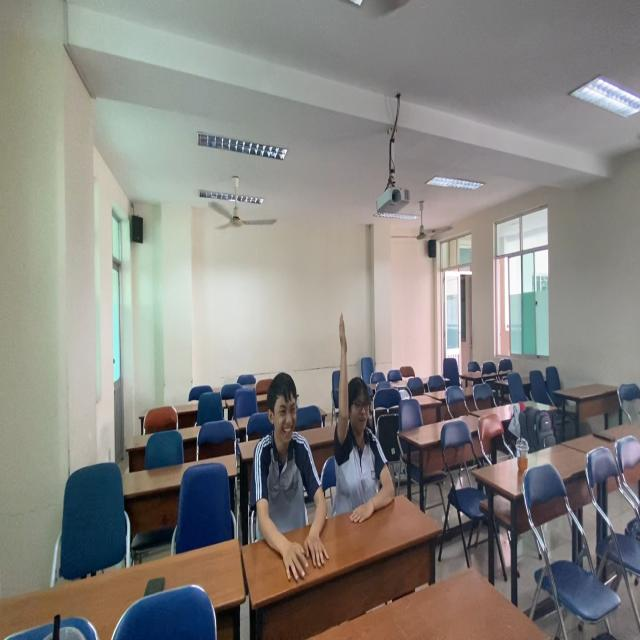raise_hand: (332, 314, 400, 528)
